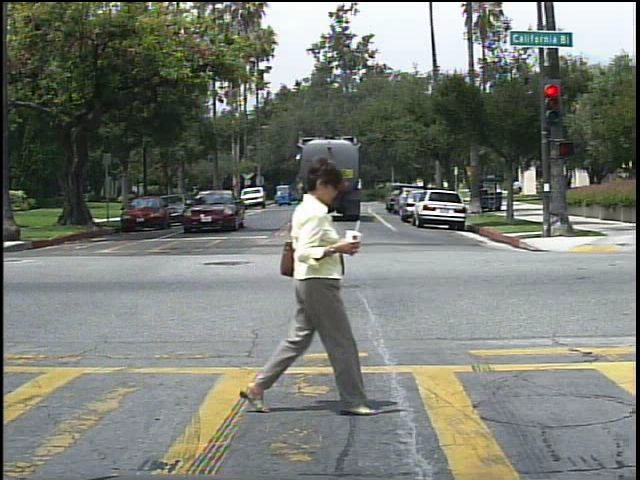person: (244, 151, 363, 423), (515, 180, 528, 199)
